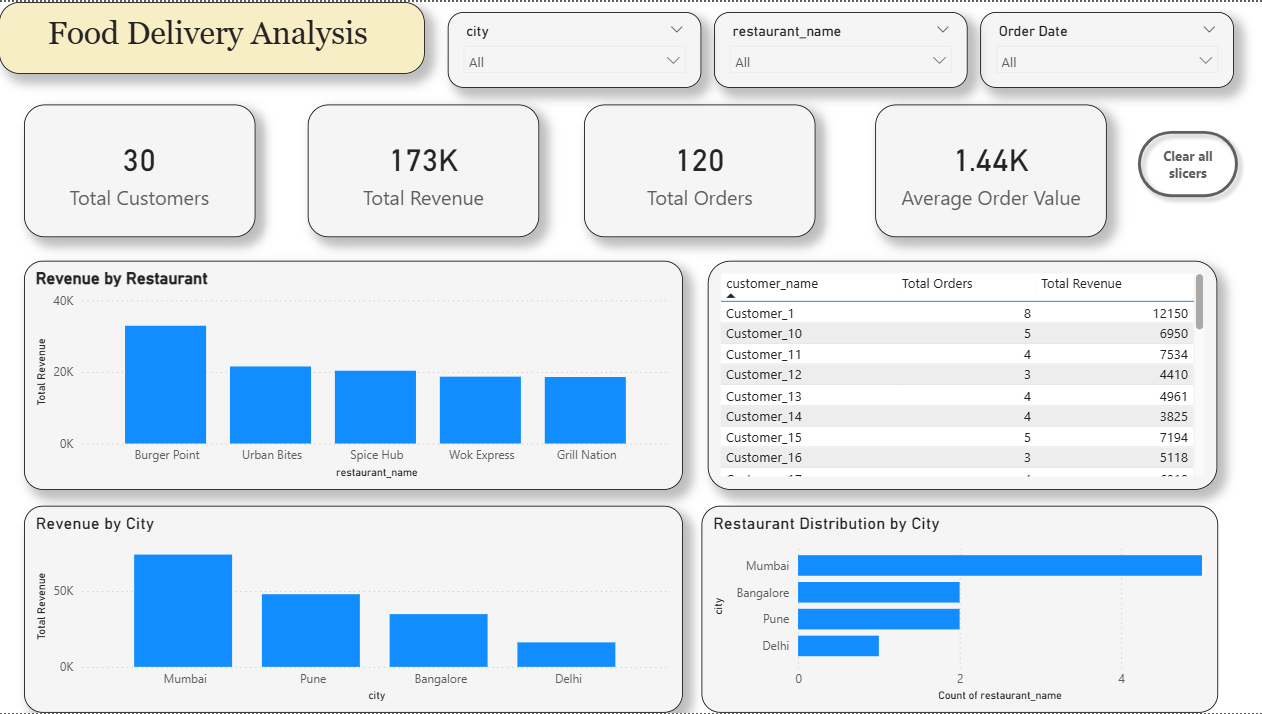

The page's visual inventory and layout, read from the dashboard file:
{"tool":"powerbi","page":{"name":"Page 1","canvas":[1280,720],"ordinal":0},"visuals":[{"type":"textbox","box":[0,0,430.9,72.7],"z":0},{"type":"card","fields":{"Values":["customers_big.Total Customers"]},"box":[24.7,104.3,234,134.5],"z":1000},{"type":"card","fields":{"Values":["order_items_big (1).Average Order Value"]},"box":[887.8,104.3,234.6,134.5],"z":2000},{"type":"card","fields":{"Values":["orders_big.Total Orders"]},"box":[592.8,104.3,234.6,134.5],"z":3000},{"type":"card","fields":{"Values":["customers_big.Total Revenue"]},"box":[312.9,104.3,234.6,134.5],"z":4000},{"type":"lineClusteredColumnComboChart","title":"Revenue by Restaurant","fields":{"Category":["restaurants_big.restaurant_name"],"Y":["customers_big.Total Revenue"]},"box":[24.7,262.1,666.9,231.9],"z":5000},{"type":"columnChart","title":"Revenue by City","fields":{"Category":["restaurants_big.city"],"Y":["customers_big.Total Revenue"]},"box":[24.7,510.5,666.9,209.9],"z":6000},{"type":"tableEx","fields":{"Values":["customers_big.customer_name","orders_big.Total Orders","customers_big.Total Revenue"]},"box":[717.7,262.1,516,231.9],"z":7000},{"type":"barChart","title":"Restaurant Distribution by City","fields":{"Category":["restaurants_big.city"],"Y":["CountNonNull(restaurants_big.restaurant_name)"]},"box":[710.8,510.5,522.8,209.9],"z":7001},{"type":"slicer","fields":{"Values":["restaurants_big.city"]},"box":[454.2,9.6,256.6,76.8],"z":7002},{"type":"slicer","fields":{"Values":["orders_big.order_date.Variation.Date Hierarchy.Month"]},"box":[993.5,9.6,256.6,76.8],"z":7003},{"type":"slicer","fields":{"Values":["restaurants_big.restaurant_name"]},"box":[724.5,9.6,256.6,76.8],"z":7004},{"type":"actionButton","box":[1144.4,122.1,119.4,85.1],"z":7005}]}

Visuals, with their boxes in screenshot pixels (x1, y1, x2, y2), scaled from the page's 1280x720 canvas onto the 1262x714 screenshot:
textbox: detection(0, 0, 425, 72)
card - customers_big.Total Customers: detection(24, 103, 255, 237)
card - order_items_big (1).Average Order Value: detection(875, 103, 1107, 237)
card - orders_big.Total Orders: detection(584, 103, 816, 237)
card - customers_big.Total Revenue: detection(308, 103, 540, 237)
"Revenue by Restaurant" lineClusteredColumnComboChart: detection(24, 260, 682, 490)
"Revenue by City" columnChart: detection(24, 506, 682, 713)
tableEx - customers_big.customer_name x orders_big.Total Orders: detection(708, 260, 1216, 490)
"Restaurant Distribution by City" barChart: detection(701, 506, 1216, 713)
slicer - restaurants_big.city: detection(448, 10, 701, 86)
slicer - orders_big.order_date.Variation.Date Hierarchy.Month: detection(980, 10, 1233, 86)
slicer - restaurants_big.restaurant_name: detection(714, 10, 967, 86)
actionButton: detection(1128, 121, 1246, 205)
